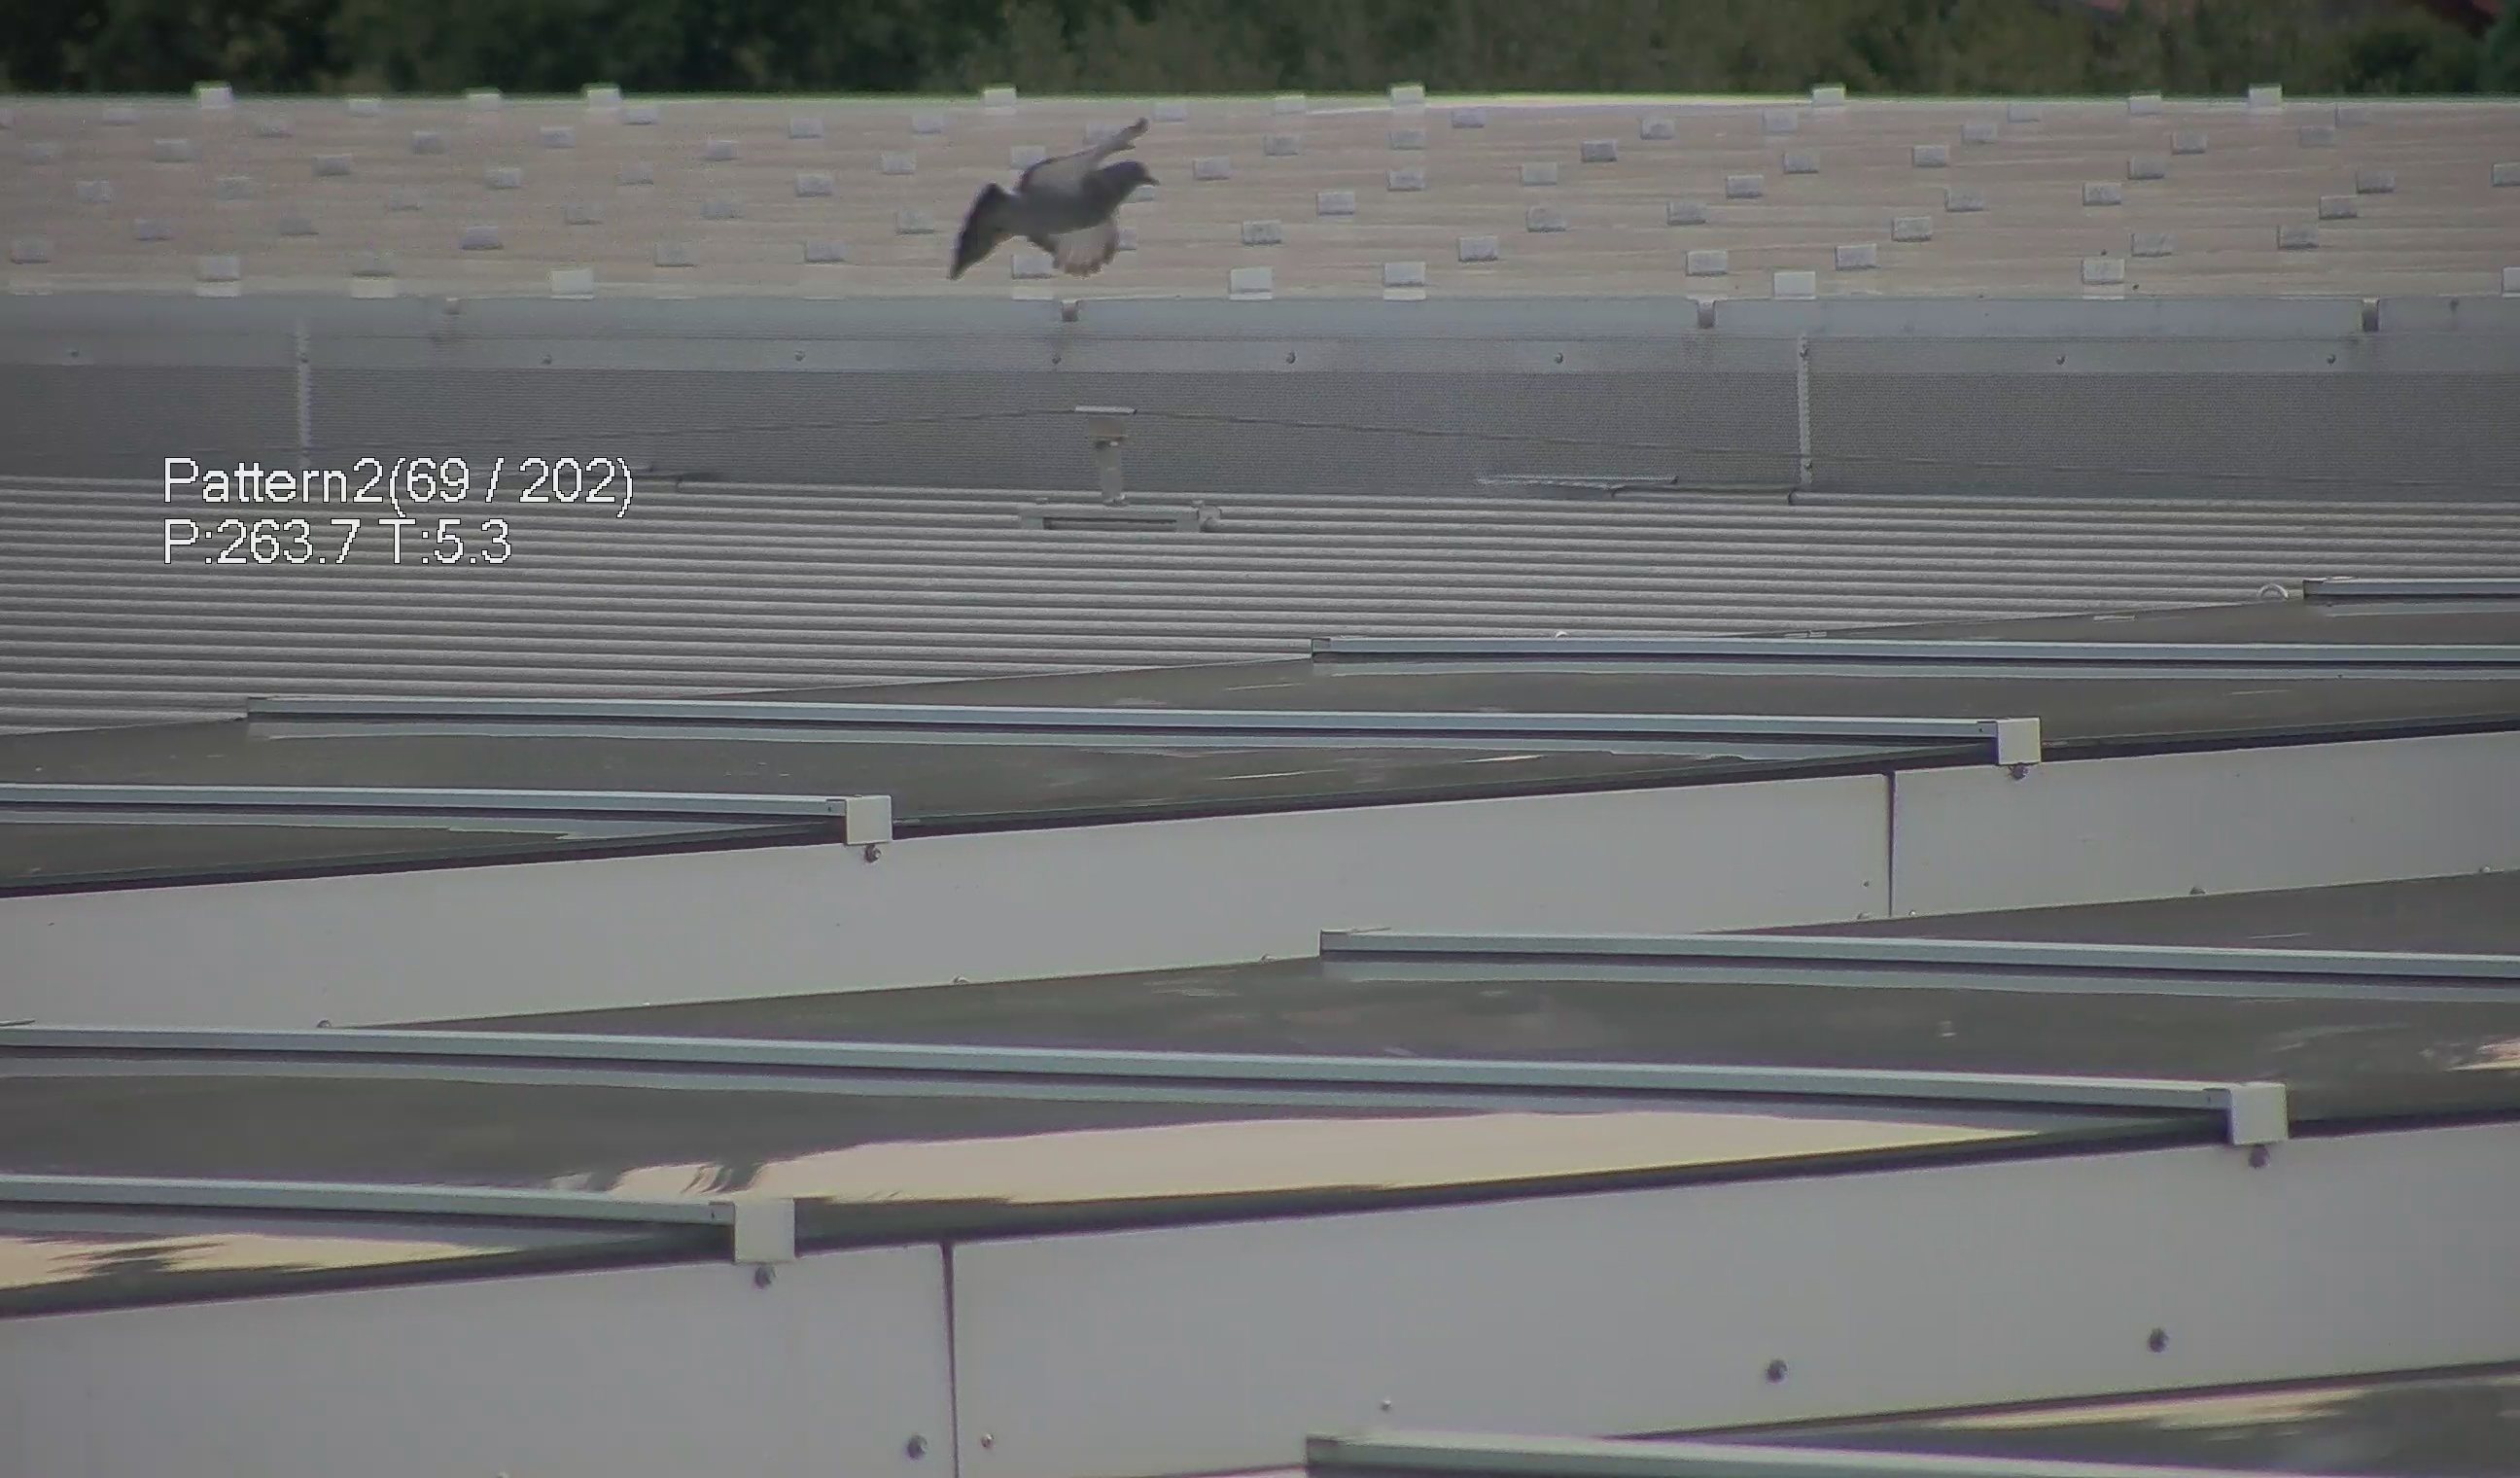Pigeon: (943, 100, 1168, 285)
